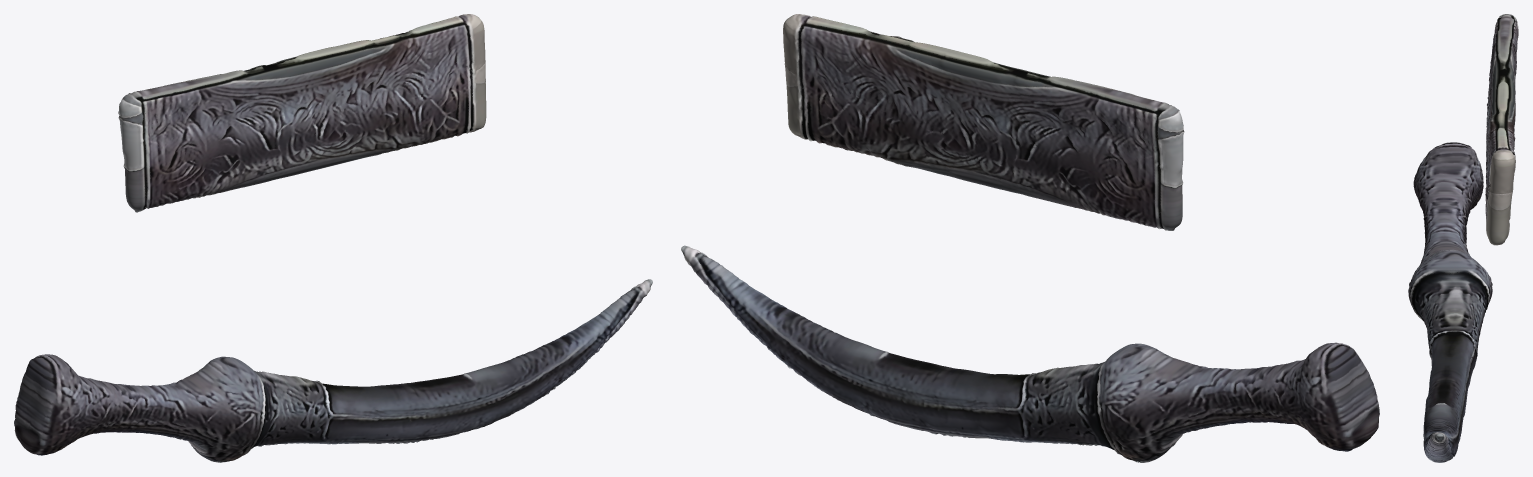
The model's file is kfl-2179.glb.
3 renders of one model, left to right at view 1: azimuth 30°, elevation 25°; view 2: azimuth 150°, elevation 25°; view 3: azimuth 270°, elevation 25°, orthographic. The views are drawn at different scales.
Visible parts, largest first — view 1: kfl-2179; view 2: kfl-2179; view 3: kfl-2179.
Part boxes in pixels (bbox=[...]): kfl-2179: bbox=[14, 14, 652, 462]; kfl-2179: bbox=[681, 14, 1379, 462]; kfl-2179: bbox=[1408, 14, 1518, 462].
Size of the model in its own units: 0.986 by 0.5751 by 0.1813.
1 material, 1 textured.
